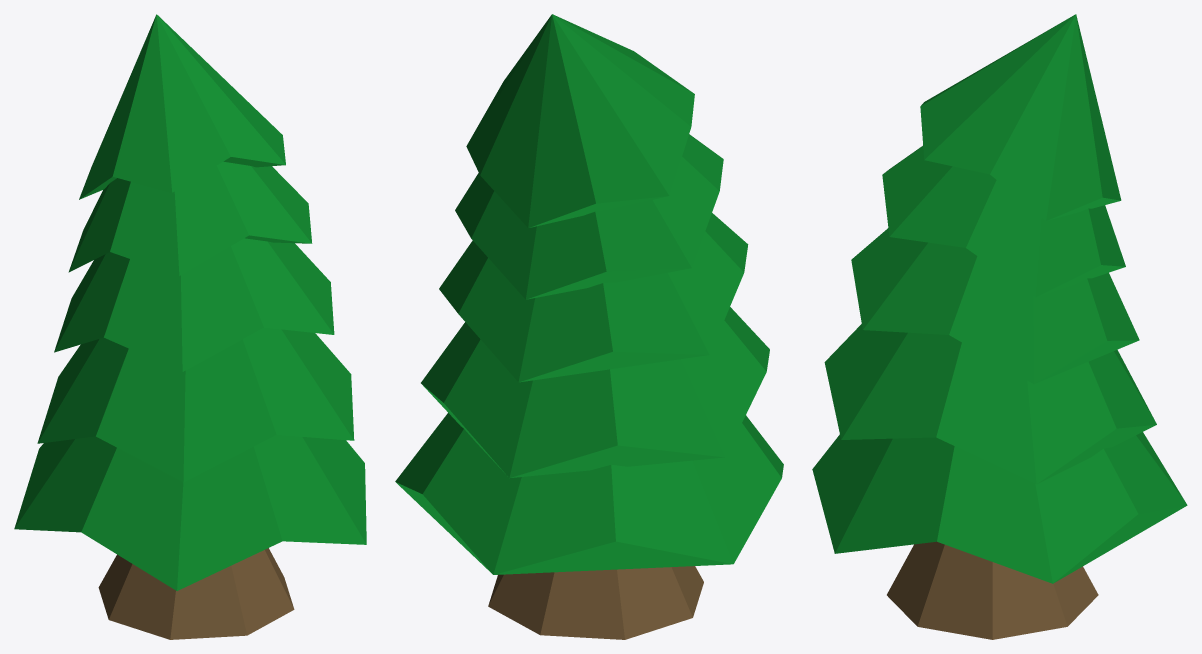
The model's file is PineTree_3.fbx.
3 views of the same model, side by side, from view 1: azimuth 30°, elevation 25°; view 2: azimuth 150°, elevation 25°; view 3: azimuth 270°, elevation 25° (orthographic). The views are drawn at different scales.
Visible parts, largest first — view 1: Cone.001, Cone.002, Cone.003, Cone.004, Cone, Cylinder; view 2: Cone.001, Cone.002, Cone.004, Cone.003, Cone, Cylinder; view 3: Cone.001, Cone.002, Cone.004, Cone.003, Cone, Cylinder.
Boxes of the visible parts, x1,y1,x2,y2 form: Cone.001: (14, 435, 366, 590); Cone.002: (37, 327, 354, 482); Cone.003: (54, 238, 334, 371); Cone.004: (79, 14, 285, 199); Cone: (68, 161, 312, 275); Cylinder: (98, 548, 294, 639); Cone.001: (395, 413, 783, 574); Cone.002: (421, 307, 769, 478); Cone.004: (466, 14, 694, 228); Cone.003: (439, 213, 748, 382); Cone: (455, 134, 723, 299); Cylinder: (488, 566, 703, 639); Cone.001: (812, 432, 1187, 583); Cone.002: (824, 324, 1156, 484); Cone.004: (920, 14, 1121, 220); Cone.003: (851, 228, 1139, 383); Cone: (882, 145, 1125, 297); Cylinder: (887, 541, 1098, 639).
Size of the model in its own units: 190 by 329 by 192.
